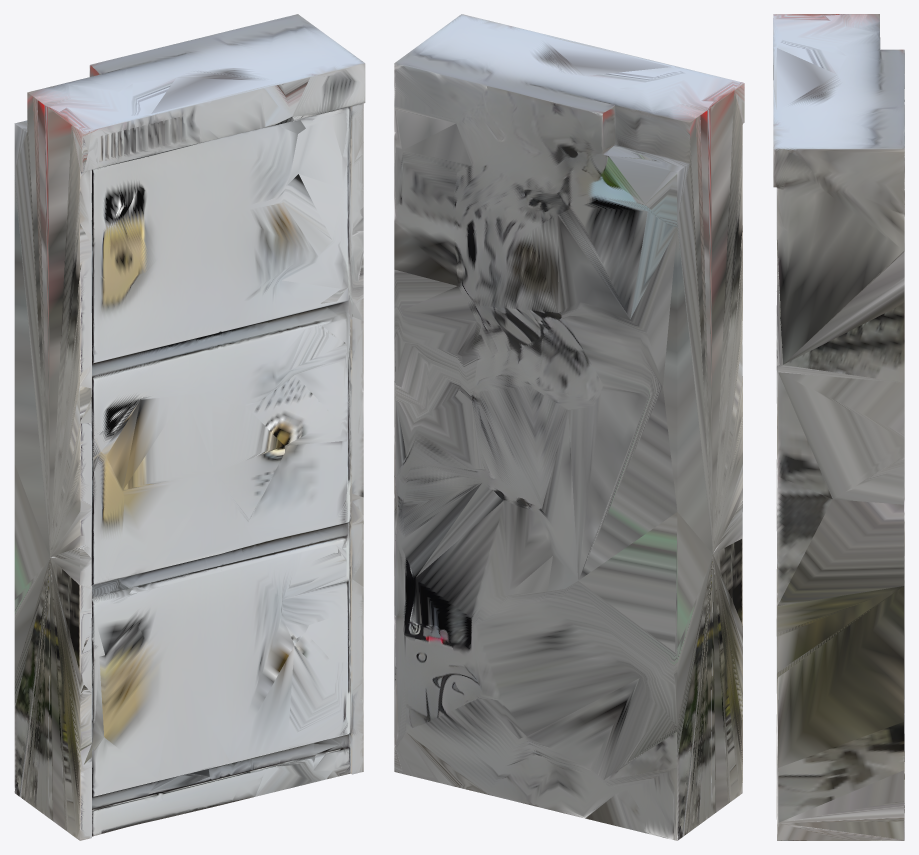
The model's file is base_basic_shaded.fbx.
The picture shows the model from 3 angles, left to right: view 1: azimuth 30°, elevation 25°; view 2: azimuth 150°, elevation 25°; view 3: azimuth 270°, elevation 25°; orthographic projection. The views are drawn at different scales.
Visible parts, largest first — view 1: model; view 2: model; view 3: model.
Part boxes in pixels (x1,y1,x2,y2): model: [14, 14, 365, 840]; model: [394, 14, 744, 840]; model: [773, 14, 904, 840].
Bounding box in the file's own units: 74.82 × 179 × 30.89.
